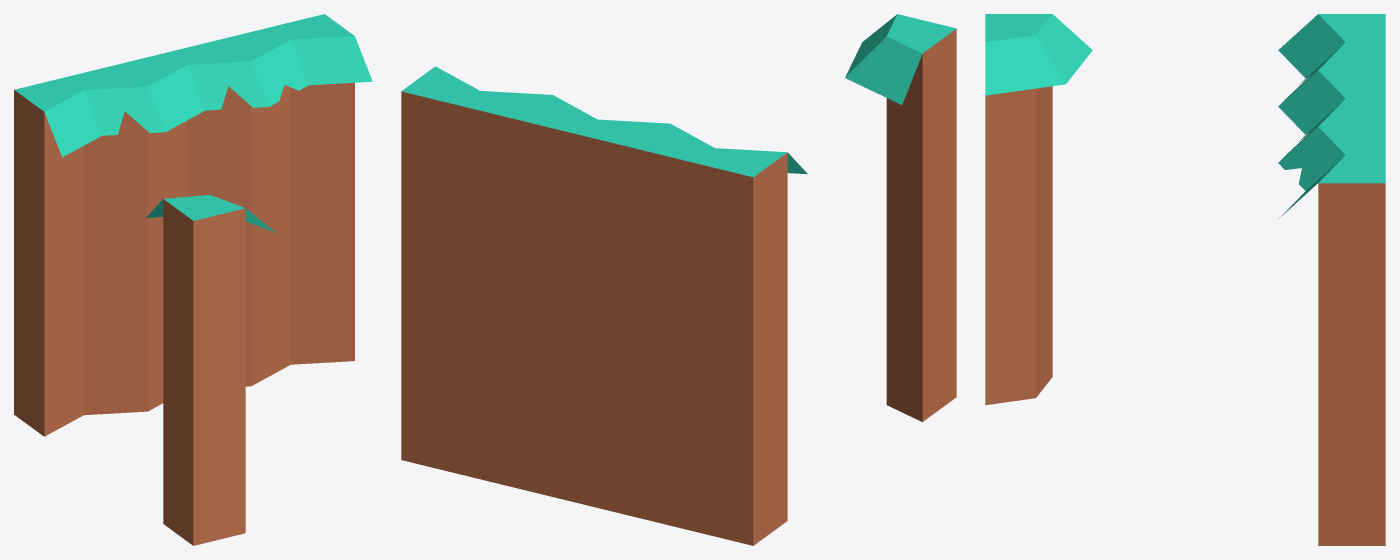
File: hill_side_corner2.obj
The picture shows the model from 3 angles, left to right: view 1: azimuth 30°, elevation 25°; view 2: azimuth 150°, elevation 25°; view 3: azimuth 270°, elevation 25°; orthographic projection. The views are drawn at different scales.
Visible parts, largest first — view 1: cliff_top_rock, cliff_cornerTop_rock; view 2: cliff_top_rock, cliff_cornerTop_rock; view 3: cliff_top_rock, cliff_cornerTop_rock.
Boxes of the visible parts, <box> form: cliff_top_rock: <box>14,14,372,436</box>; cliff_cornerTop_rock: <box>145,195,275,545</box>; cliff_top_rock: <box>401,66,807,545</box>; cliff_cornerTop_rock: <box>845,14,956,421</box>; cliff_top_rock: <box>1278,14,1385,545</box>; cliff_cornerTop_rock: <box>985,14,1092,405</box>.
Bounding box in the file's own units: 1 × 1 × 1.
